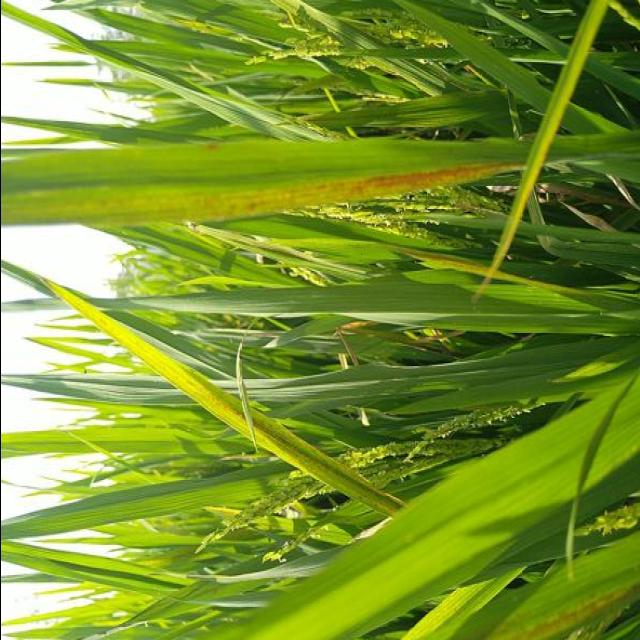Leaf Streak: (0, 260, 405, 515), (0, 163, 524, 225), (488, 580, 640, 640)
